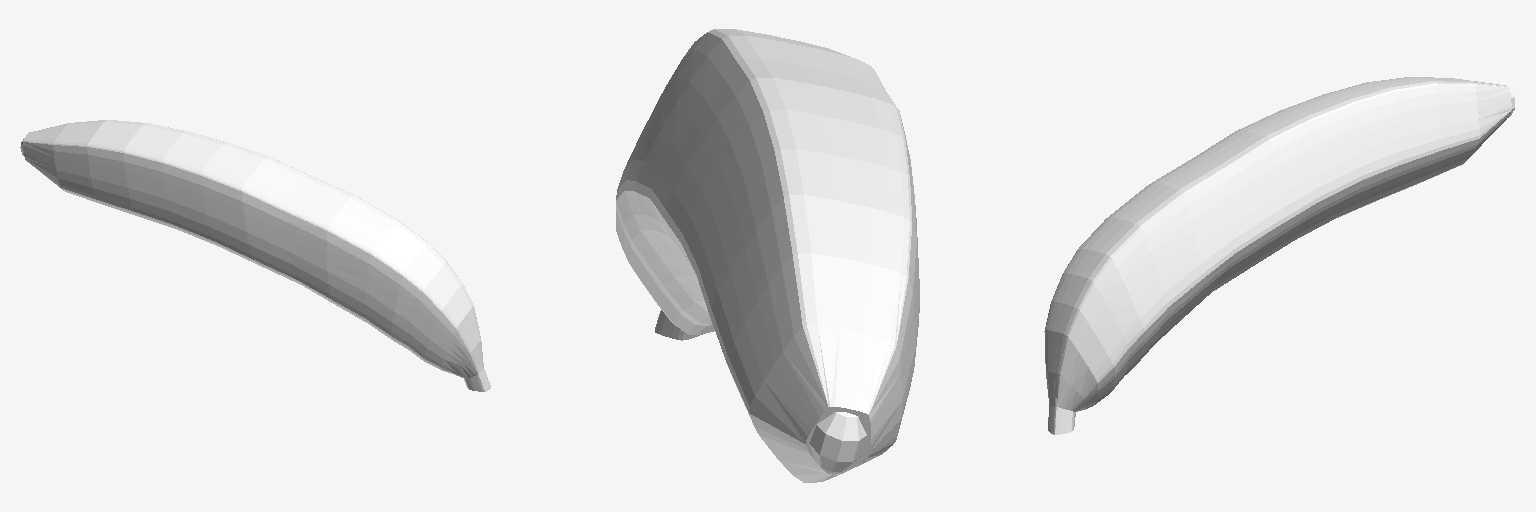
robot.urdf — banana:
<robot name="banana">
	<link name="_name">
		<visual>
			<origin rpy="0 0 0" xyz="-71.77712296517338 -14.116133719127628 -6.11071" />
			<geometry>
				<mesh filename="banana/473758ca6cb0506ee7697d561711bd2b.obj" scale="1 1 1" />
			</geometry>
			<material name="texture">
				<color rgba="1.0 1.0 1.0 1.0" />
			</material>
		</visual>
		<collision>
			<geometry>
				<mesh filename="banana/473758ca6cb0506ee7697d561711bd2b_vhacd.obj" scale="1 1 1" />
			</geometry>
		<origin rpy="0 0 0" xyz="-71.77712296517338 -14.116133719127628 -6.11071" /></collision>
		<inertial>
			<mass value="1.0" />
			<inertia ixx="1.0" ixy="0.0" ixz="0.0" iyy="1.0" iyz="0.0" izz="1.0" />
		</inertial>
	</link>
</robot>

--- Facts derived from the render (not from the file) ---
The picture shows the robot from 3 angles, left to right: view 1: azimuth 30°, elevation 25°; view 2: azimuth 150°, elevation 25°; view 3: azimuth 270°, elevation 25°; orthographic projection.
Model banana with 1 links and 0 joints (none), rooted at _name, posed all joints at 0.
Links seen in each view (by area): view 1: _name; view 2: _name; view 3: _name.
Link boxes in pixels (<box>): _name: <box>20,120,490,391</box>; _name: <box>616,29,919,482</box>; _name: <box>1044,77,1514,434</box>.
Bounding box of the posed robot: 8.59 × 11.1 × 6.11 m (x, y, z).
Meshes: 1 distinct files referenced, 1 mesh visuals loaded (1 OBJ).